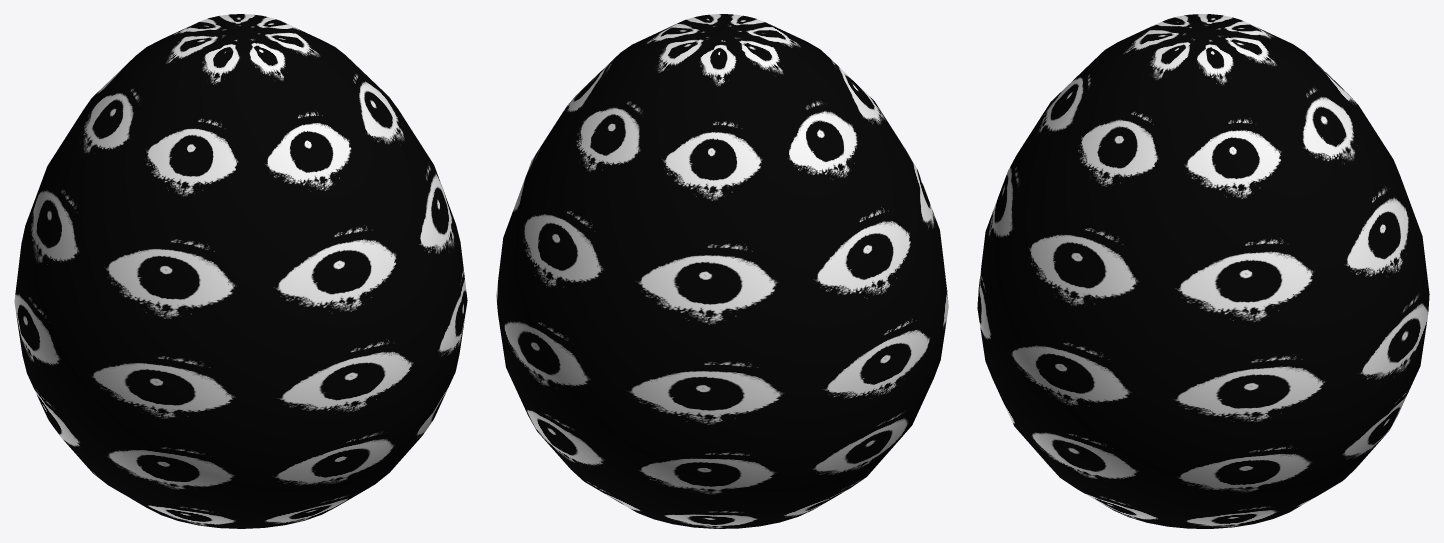
File: luckyme.gltf
The picture shows the model from 3 angles, left to right: view 1: azimuth 30°, elevation 25°; view 2: azimuth 150°, elevation 25°; view 3: azimuth 270°, elevation 25°; orthographic projection.
Visible parts, largest first — view 1: EGG; view 2: EGG; view 3: EGG.
Boxes of the visible parts, box(x1,y1,x2,y2) form: EGG: box(14, 14, 467, 528); EGG: box(496, 14, 948, 528); EGG: box(977, 14, 1429, 528).
Size of the model in its own units: 1.98 by 2.31 by 1.98.
1 material, 1 textured.
